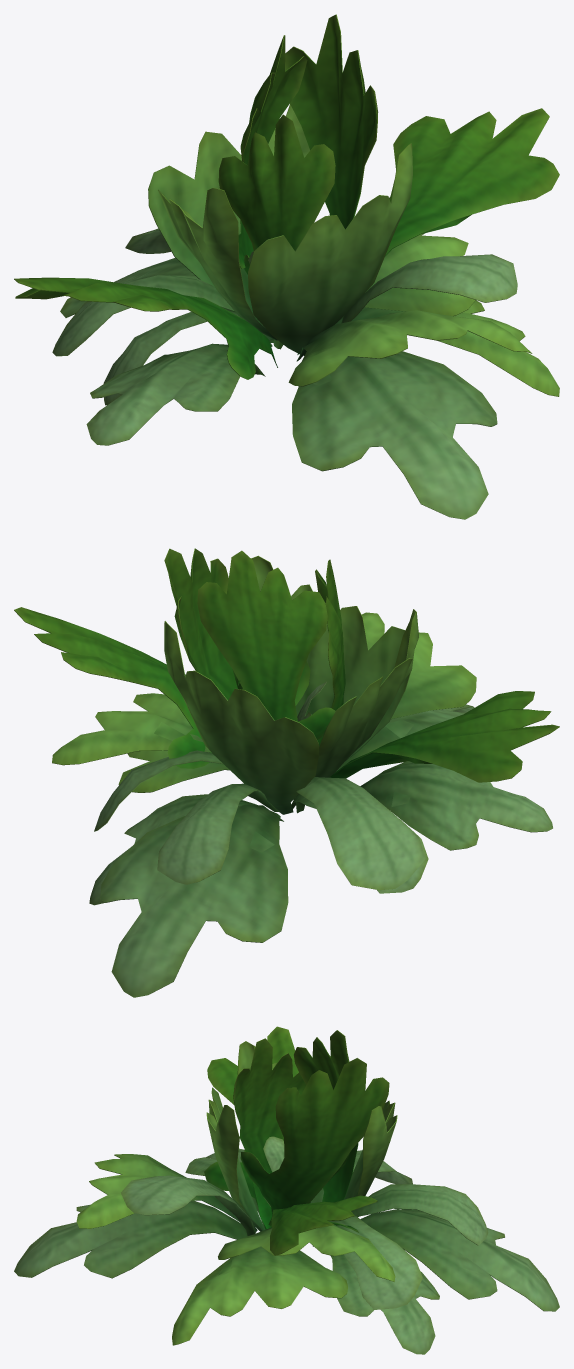
File: SHANHU2.fbx
3 views of the same model, one above another, from view 1: azimuth 30°, elevation 25°; view 2: azimuth 150°, elevation 25°; view 3: azimuth 270°, elevation 25° (orthographic). The views are drawn at different scales.
Visible parts, largest first — view 1: Cartoon_Seaweed_10_10_Cartoon_Seaweed_10_0; view 2: Cartoon_Seaweed_10_10_Cartoon_Seaweed_10_0; view 3: Cartoon_Seaweed_10_10_Cartoon_Seaweed_10_0.
Boxes of the visible parts, bbox=[...] form: Cartoon_Seaweed_10_10_Cartoon_Seaweed_10_0: bbox=[14, 14, 559, 519]; Cartoon_Seaweed_10_10_Cartoon_Seaweed_10_0: bbox=[14, 548, 559, 997]; Cartoon_Seaweed_10_10_Cartoon_Seaweed_10_0: bbox=[14, 1026, 559, 1354].
Size of the model in its own units: 69.31 by 44.2 by 75.97.
